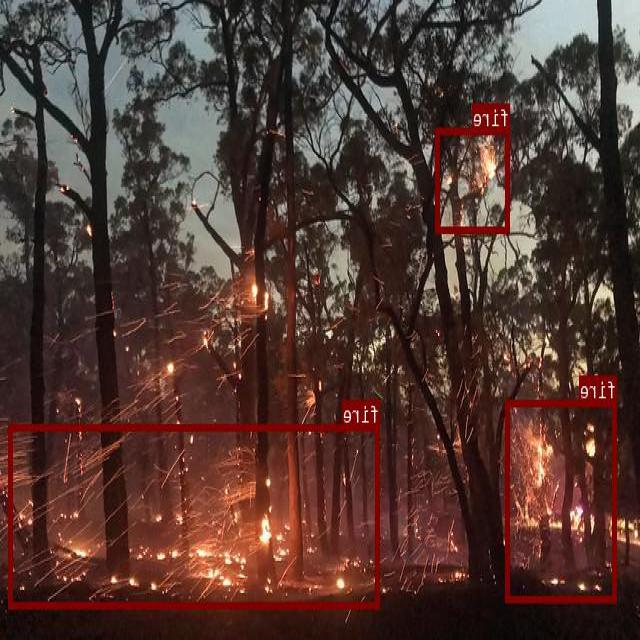fire: (10, 423, 380, 608), (506, 400, 617, 601), (437, 127, 510, 232)
